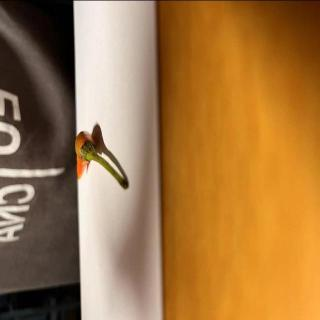Cabai Merah: (75, 131, 129, 191)
